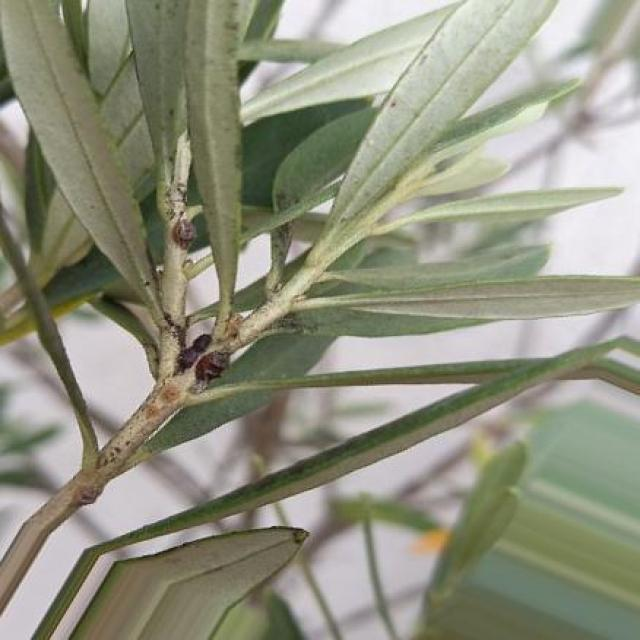Black Scale: (175, 333, 210, 373), (195, 351, 229, 382), (174, 213, 196, 250)
